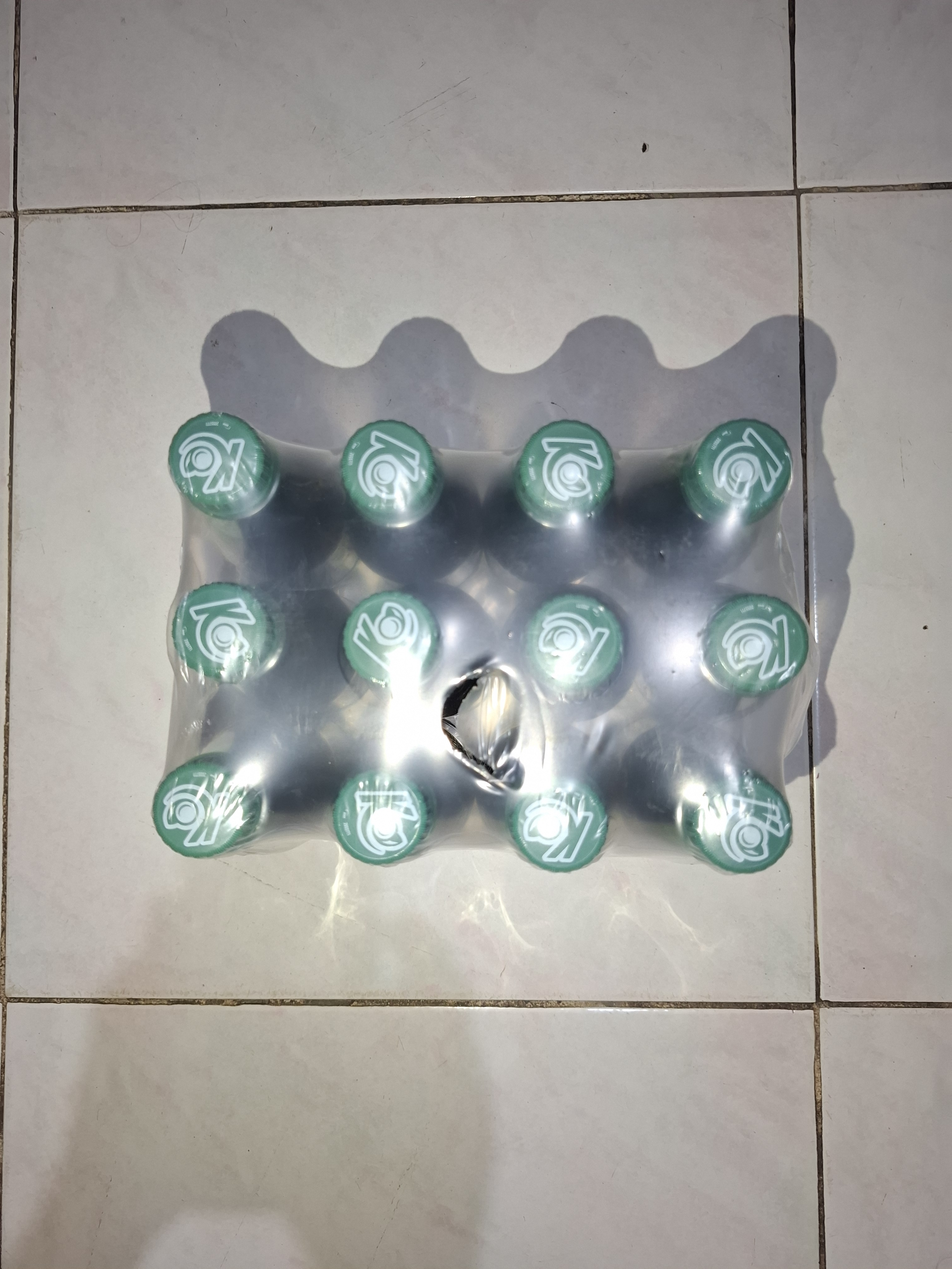Tampa Refrigerante Kuat: (151, 748, 269, 860), (339, 415, 454, 527), (524, 582, 633, 697), (678, 762, 792, 871), (684, 414, 796, 521), (170, 579, 277, 683), (166, 412, 274, 515), (697, 593, 806, 695), (330, 588, 437, 690), (516, 415, 616, 523), (506, 771, 605, 871), (331, 767, 429, 865)
